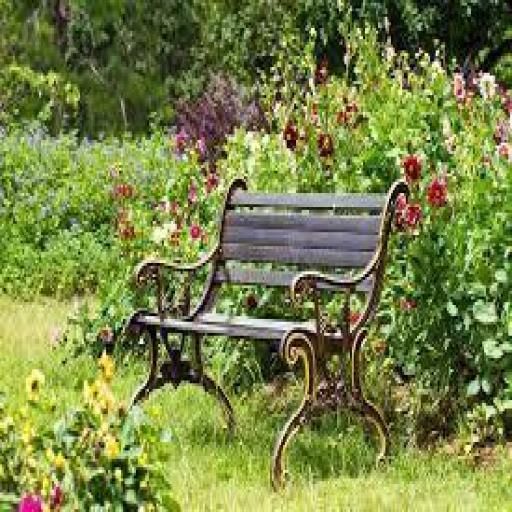chair: (129, 172, 415, 485)
